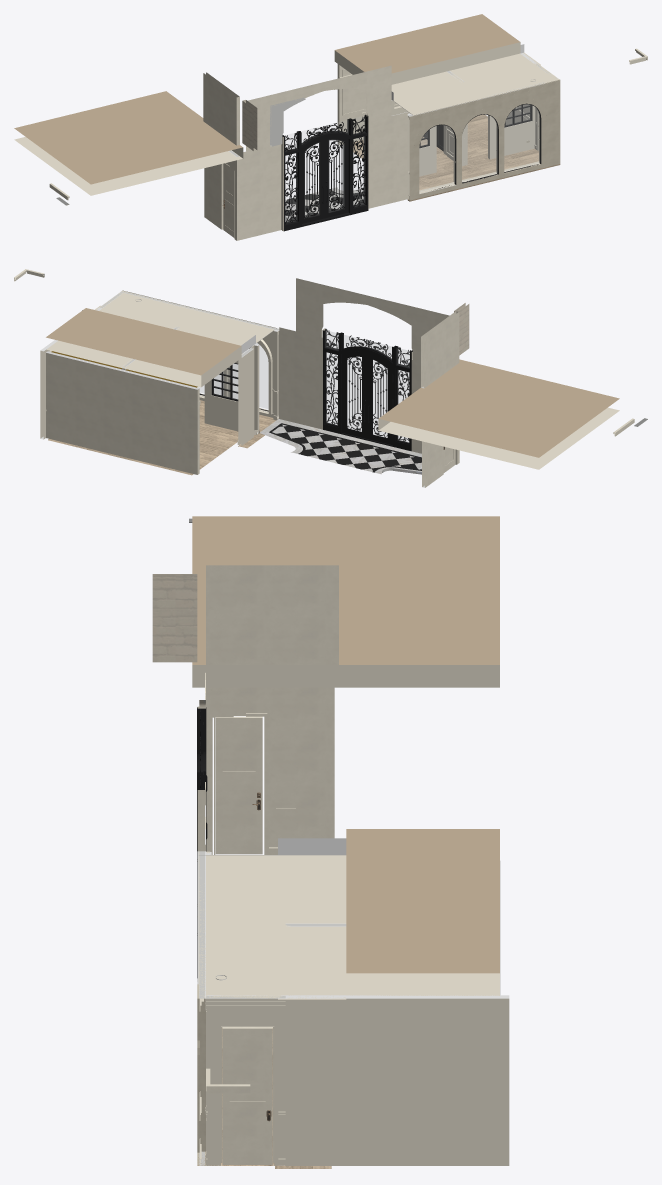
The model's file is office-hall-ba535eacdc24.glb.
3 views of the same model, one above another, from view 1: azimuth 30°, elevation 25°; view 2: azimuth 150°, elevation 25°; view 3: azimuth 270°, elevation 25° (orthographic). The views are drawn at different scales.
Visible parts, largest first — view 1: office-hall-look-2575515a05775d9e, office-hall-look-d5a4a1b5d3594c04, office-hall-c9e78b9ec1bb39cd, office-hall-dbd60ee5c3733ed6, office-hall-look-34525a54e63b733b, office-hall-look-bce662e26d5a5947, office-hall-38561c12898e4d43, office-hall-c02a36d0521470a9, office-hall-5cbcc744e6f960f3, office-hall-look-746250f96522f643, office-hall-look-dbd60ee5c3733ed6, office-hall-c374268555806af8 (+19 smaller); view 2: office-hall-look-2575515a05775d9e, office-hall-look-19647d6da46c2b80, office-hall-look-d5a4a1b5d3594c04, office-hall-look-34525a54e63b733b, office-hall-dbd60ee5c3733ed6, office-hall-look-e388ad8855329420, office-hall-look-3231f73bae020736, office-hall-look-bce662e26d5a5947, office-hall-look-746250f96522f643, office-hall-look-b3086b8cd368d7da, office-hall-look-26f615ec640e02ab, office-hall-look-6a051330000fbca1 (+18 smaller); view 3: office-hall-look-2575515a05775d9e, office-hall-look-6a1144f4e43410bb, office-hall-look-746250f96522f643, office-hall-look-85f0fd939e0fcc78, office-hall-dbd60ee5c3733ed6, office-hall-look-dbd60ee5c3733ed6, office-hall-cf6d22c5317ced0b, office-hall-look-3322bc58bedf5620, office-hall-68d06b361ac47823, office-hall-look-5e296beffb47d853, office-hall-c9e78b9ec1bb39cd, office-hall-look-bce662e26d5a5947.
Part boxes in pixels (x1,y1,x2,y2): office-hall-look-2575515a05775d9e: (14,14,520,195); office-hall-look-d5a4a1b5d3594c04: (236,112,407,240); office-hall-c9e78b9ec1bb39cd: (407,82,545,200); office-hall-dbd60ee5c3733ed6: (392,63,559,115); office-hall-look-34525a54e63b733b: (246,65,391,151); office-hall-look-bce662e26d5a5947: (282,114,368,231); office-hall-38561c12898e4d43: (419,125,454,191); office-hall-c02a36d0521470a9: (462,115,497,180); office-hall-5cbcc744e6f960f3: (504,104,539,170); office-hall-look-746250f96522f643: (203,72,239,145); office-hall-look-dbd60ee5c3733ed6: (391,44,540,100); office-hall-c374268555806af8: (407,148,560,201); office-hall-look-2575515a05775d9e: (46,308,619,469); office-hall-look-19647d6da46c2b80: (46,351,199,474); office-hall-look-d5a4a1b5d3594c04: (279,327,459,462); office-hall-look-34525a54e63b733b: (296,278,449,361); office-hall-dbd60ee5c3733ed6: (99,290,276,346); office-hall-look-e388ad8855329420: (272,424,421,471); office-hall-look-3231f73bae020736: (341,351,367,438); office-hall-look-bce662e26d5a5947: (323,328,412,451); office-hall-look-746250f96522f643: (421,311,459,388); office-hall-look-b3086b8cd368d7da: (325,331,409,442); office-hall-look-26f615ec640e02ab: (367,352,393,445); office-hall-look-6a051330000fbca1: (238,347,253,445); office-hall-look-2575515a05775d9e: (192,516,499,995); office-hall-look-6a1144f4e43410bb: (285,995,509,1165); office-hall-look-746250f96522f643: (206,565,338,664); office-hall-look-85f0fd939e0fcc78: (206,687,334,854); office-hall-dbd60ee5c3733ed6: (198,855,292,998); office-hall-look-dbd60ee5c3733ed6: (278,838,346,999); office-hall-cf6d22c5317ced0b: (222,1028,272,1164); office-hall-look-3322bc58bedf5620: (215,716,262,854); office-hall-68d06b361ac47823: (206,995,285,1165); office-hall-look-5e296beffb47d853: (152,574,197,662); office-hall-c9e78b9ec1bb39cd: (197,851,205,1151); office-hall-look-bce662e26d5a5947: (197,707,206,977).
Bounding box in the file's own units: 21.96 × 5.17 × 5.78.
Materials: 32 (7 with a texture image).
